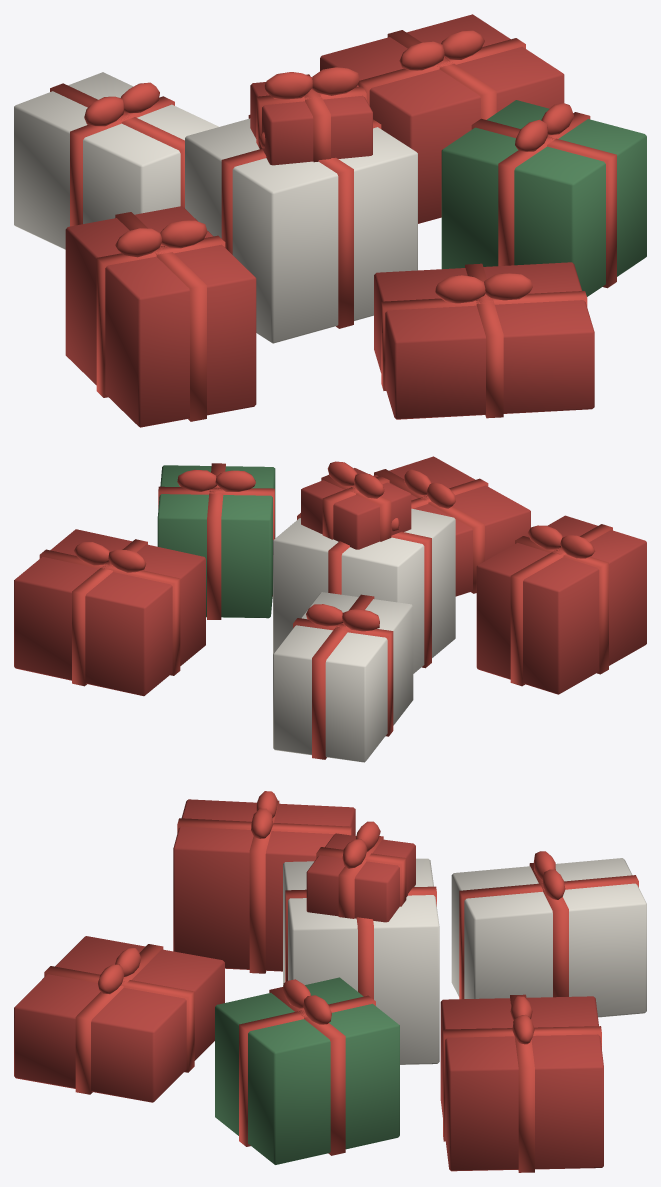
Rendered from presents_a.glb.
3 views of the same model, one above another, from view 1: azimuth 30°, elevation 25°; view 2: azimuth 150°, elevation 25°; view 3: azimuth 270°, elevation 25° (orthographic). The views are drawn at different scales.
Visible parts, largest first — view 1: presents_a; view 2: presents_a; view 3: presents_a.
Part boxes in pixels (x1=…): presents_a: x1=14, y1=14, x2=646, y2=427; presents_a: x1=14, y1=456, x2=646, y2=762; presents_a: x1=14, y1=791, x2=646, y2=1172.
Size of the model in its own units: 1.12 by 0.4234 by 1.18.
